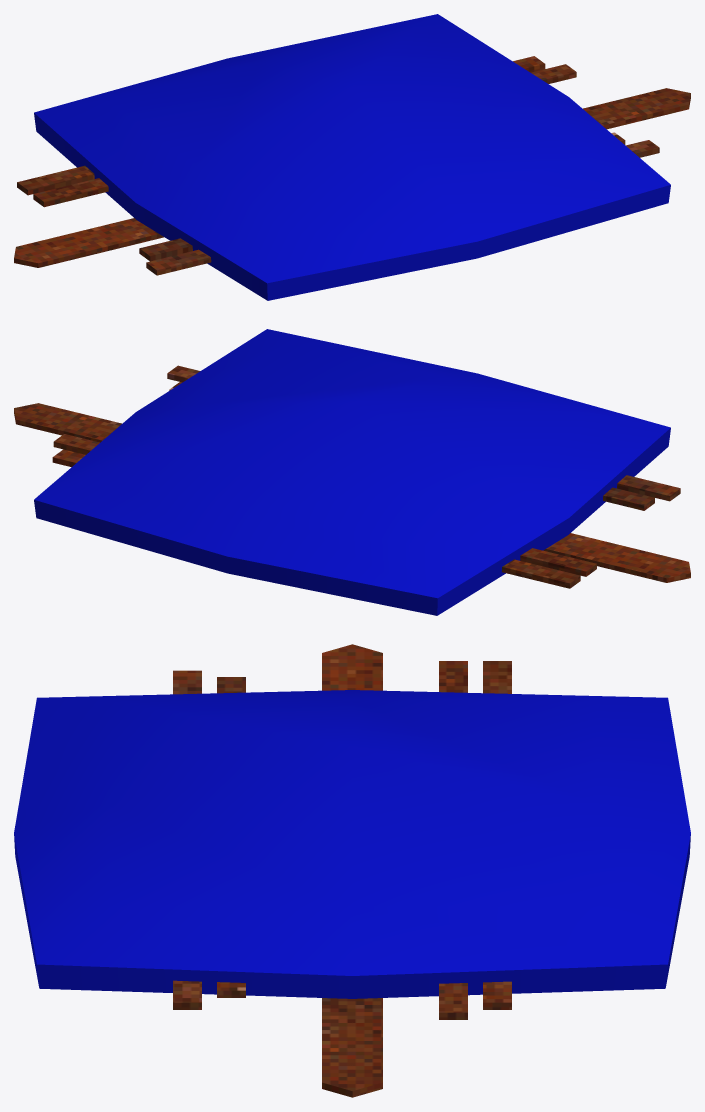
The model's file is shipsalvage.fbx.
3 renders of one model, top to bottom at view 1: azimuth 30°, elevation 25°; view 2: azimuth 150°, elevation 25°; view 3: azimuth 270°, elevation 25°, orthographic. The views are drawn at different scales.
Visible parts, largest first — view 1: geo_squarewreck; view 2: geo_squarewreck; view 3: geo_squarewreck.
Part boxes in pixels (bbox=[...]): geo_squarewreck: bbox=[14, 14, 690, 300]; geo_squarewreck: bbox=[14, 329, 690, 615]; geo_squarewreck: bbox=[14, 644, 690, 1097].
Size of the model in its own units: 444 by 59.03 by 284.
